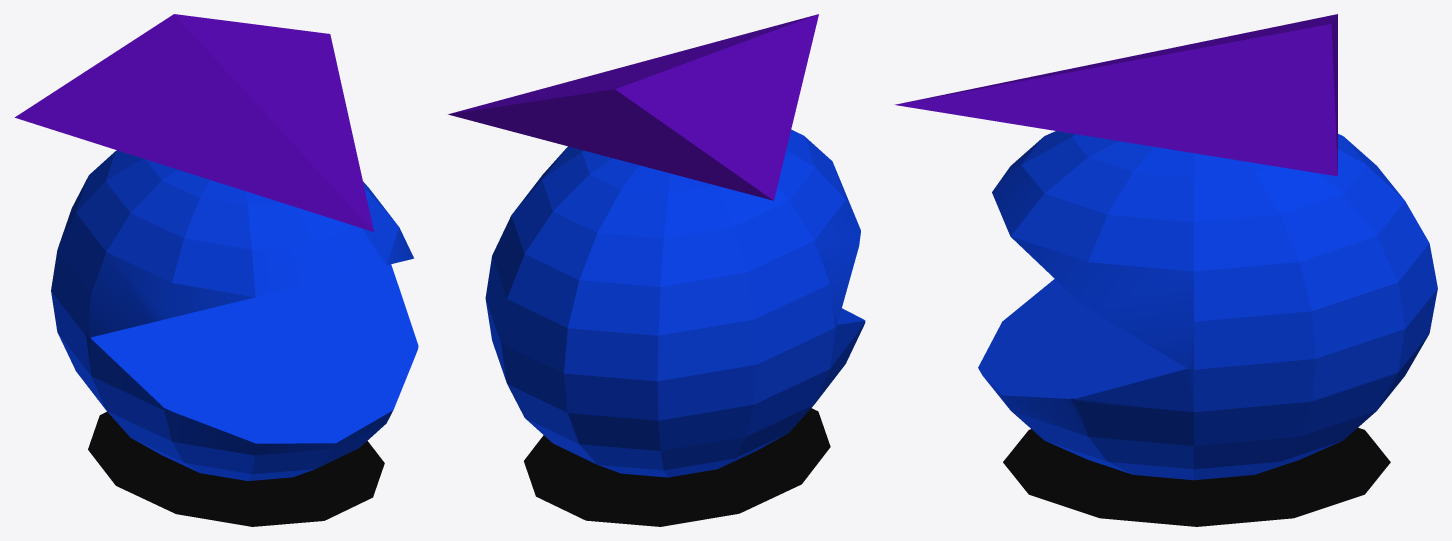
Rendered from enemyPacman3.fbx.
The picture shows the model from 3 angles, left to right: view 1: azimuth 30°, elevation 25°; view 2: azimuth 150°, elevation 25°; view 3: azimuth 270°, elevation 25°; orthographic projection. The views are drawn at different scales.
Parts seen in each view (by area): view 1: pSphere2, pPyramid1, pCylinder1; view 2: pSphere2, pPyramid1, pCylinder1; view 3: pSphere2, pPyramid1, pCylinder1.
Boxes of the visible parts, left/top/right/bottom form: pSphere2: left=51, top=150, right=418, bottom=480; pPyramid1: left=15, top=14, right=373, bottom=231; pCylinder1: left=88, top=412, right=384, bottom=526; pSphere2: left=485, top=129, right=865, bottom=477; pPyramid1: left=448, top=14, right=818, bottom=200; pCylinder1: left=524, top=408, right=830, bottom=526; pSphere2: left=978, top=131, right=1437, bottom=480; pPyramid1: left=894, top=14, right=1337, bottom=176; pCylinder1: left=1003, top=427, right=1390, bottom=526.
Size of the model in its own units: 0.625 by 0.7534 by 0.8469.
